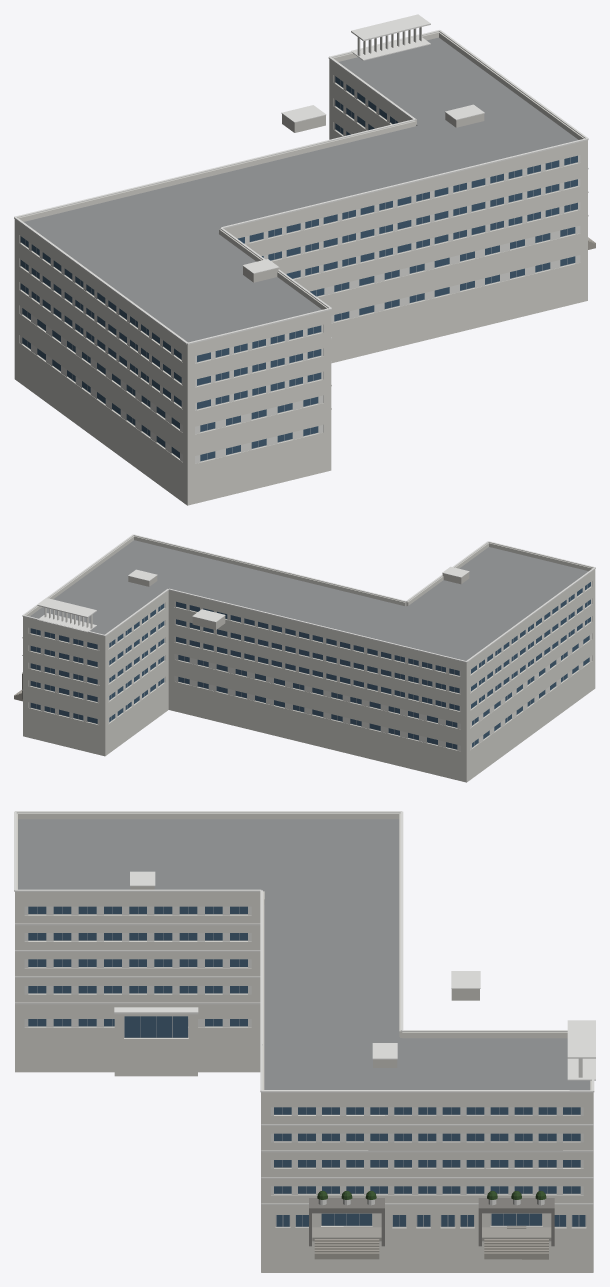
3 views of the same model, one above another, from view 1: azimuth 30°, elevation 25°; view 2: azimuth 150°, elevation 25°; view 3: azimuth 270°, elevation 25° (orthographic). The views are drawn at different scales.
Visible parts, largest first — view 1: s09__white-wall, s09__roof, s09__glass, s09__spandrel-wall, s09__trim, s09__frame, s09__back-wall; view 2: s09__white-wall, s09__roof, s09__glass, s09__spandrel-wall, s09__trim, s09__frame, s09__back-wall; view 3: s09__white-wall, s09__roof, s09__glass, s09__trim, s09__spandrel-wall, s09__frame, s09__stone-step, s09__door-glass, s09__portal-stone-wall, s09__entrance-landing, s09__back-wall.
Boxes of the visible parts, left/top/right/bottom form: s09__white-wall: left=14, top=32, right=587, bottom=505; s09__roof: left=24, top=37, right=578, bottom=342; s09__glass: left=20, top=76, right=577, bottom=461; s09__spandrel-wall: left=19, top=75, right=580, bottom=463; s09__trim: left=14, top=14, right=588, bottom=409; s09__frame: left=20, top=80, right=577, bottom=461; s09__back-wall: left=243, top=113, right=484, bottom=282; s09__white-wall: left=23, top=536, right=595, bottom=782; s09__roof: left=30, top=540, right=588, bottom=660; s09__glass: left=30, top=582, right=590, bottom=749; s09__spandrel-wall: left=28, top=581, right=591, bottom=751; s09__trim: left=22, top=534, right=595, bottom=690; s09__frame: left=31, top=585, right=590, bottom=749; s09__back-wall: left=128, top=572, right=469, bottom=629; s09__white-wall: left=15, top=813, right=593, bottom=1272; s09__roof: left=18, top=819, right=590, bottom=1090; s09__glass: left=28, top=906, right=585, bottom=1226; s09__trim: left=14, top=811, right=595, bottom=1204; s09__spandrel-wall: left=24, top=906, right=583, bottom=1194; s09__frame: left=28, top=907, right=585, bottom=1227; s09__stone-step: left=314, top=1239, right=548, bottom=1259; s09__door-glass: left=124, top=1016, right=541, bottom=1225; s09__portal-stone-wall: left=309, top=1198, right=554, bottom=1246; s09__entrance-landing: left=312, top=1227, right=551, bottom=1241; s09__back-wall: left=130, top=886, right=479, bottom=1067.
Size of the model in its own units: 86.97 by 27.9 by 71.99.
